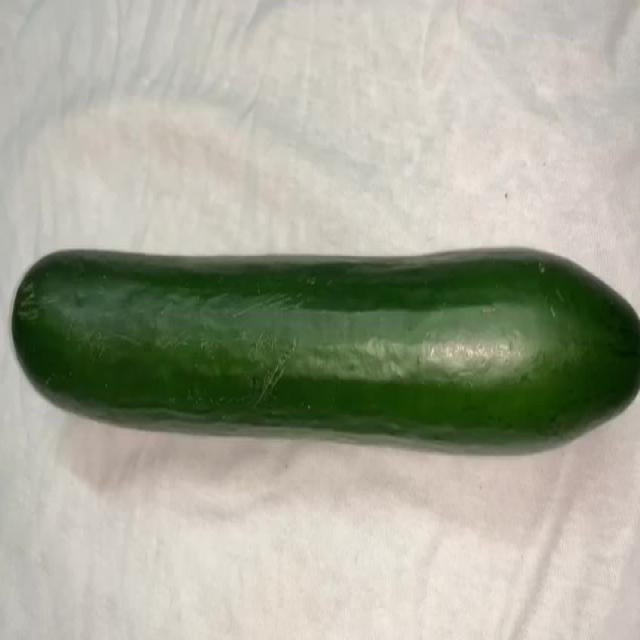Cucumber: (9, 247, 640, 459)
